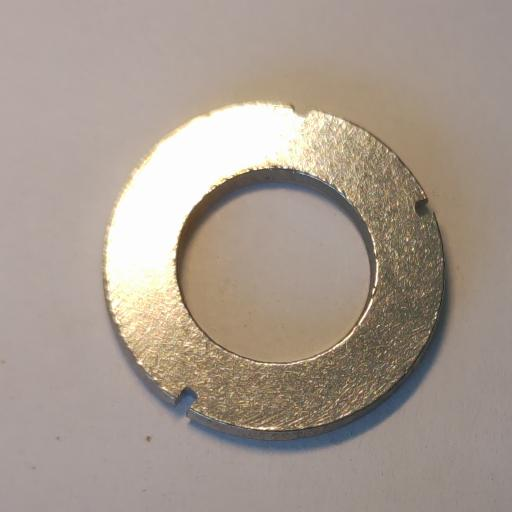burr: (174, 387, 199, 414), (291, 103, 314, 121), (414, 198, 434, 218)
